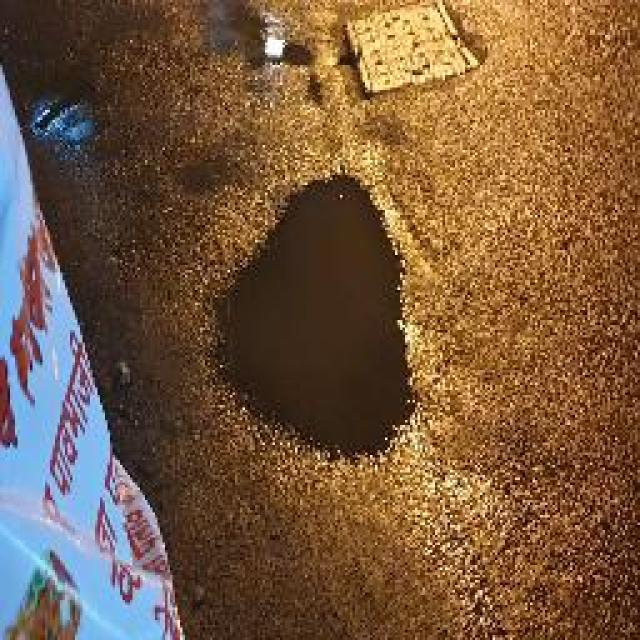puddle: (213, 169, 423, 465)
